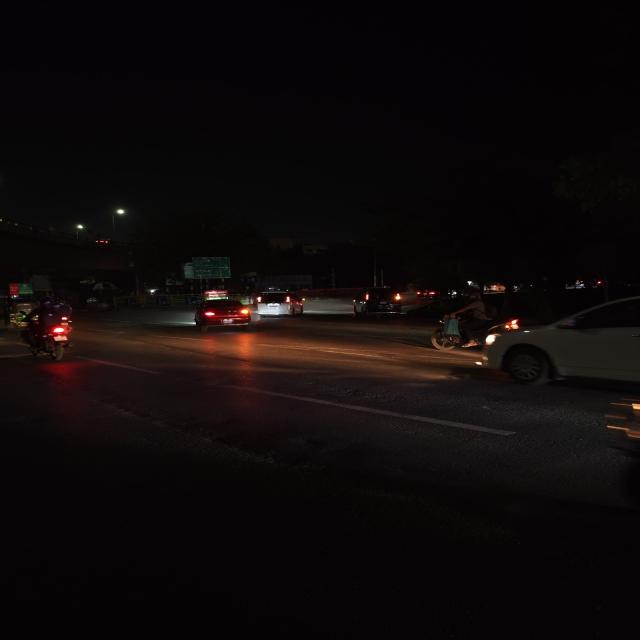car: (477, 284, 640, 396), (187, 296, 255, 332), (350, 286, 409, 320), (255, 289, 310, 319)
motorcycle: (16, 296, 84, 362), (427, 288, 494, 354)
